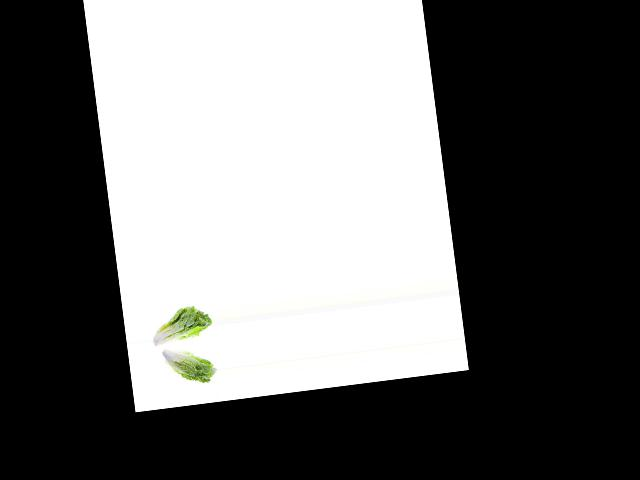lettuce: (155, 343, 217, 389)
